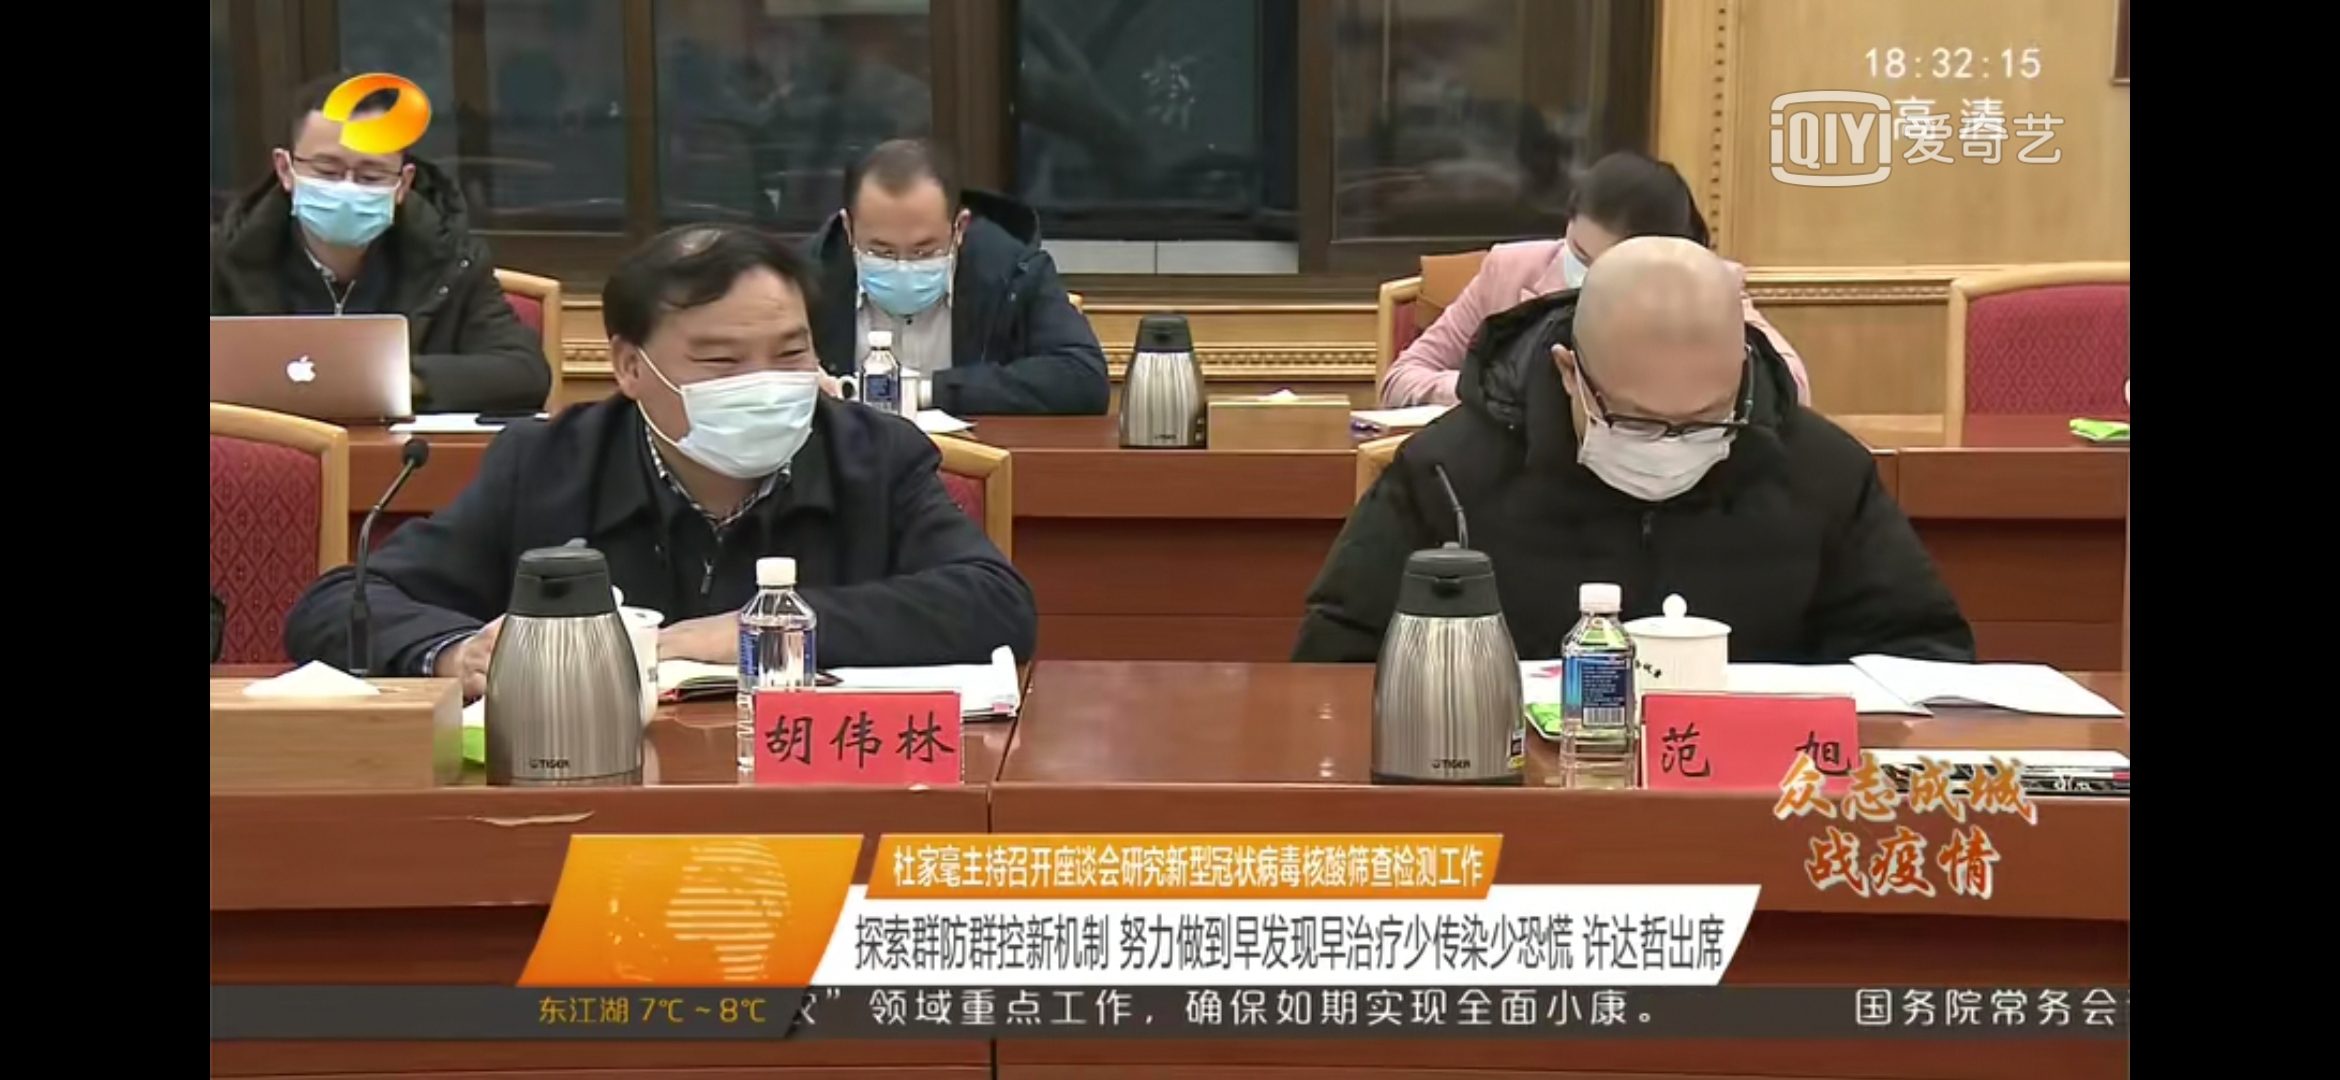correctlyWear: (585, 213, 825, 476), (1554, 330, 1748, 501), (830, 139, 988, 321), (272, 90, 413, 246), (1555, 204, 1637, 295)
